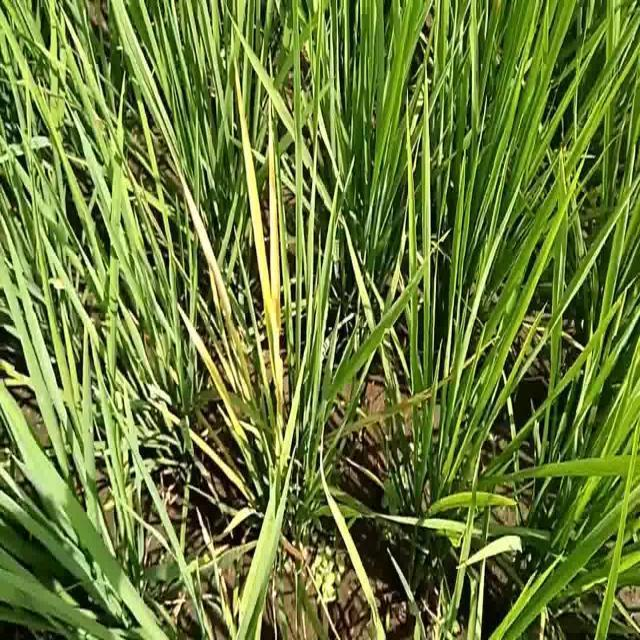Rice Tungro: (161, 133, 231, 320), (232, 50, 270, 343), (269, 52, 287, 361)
